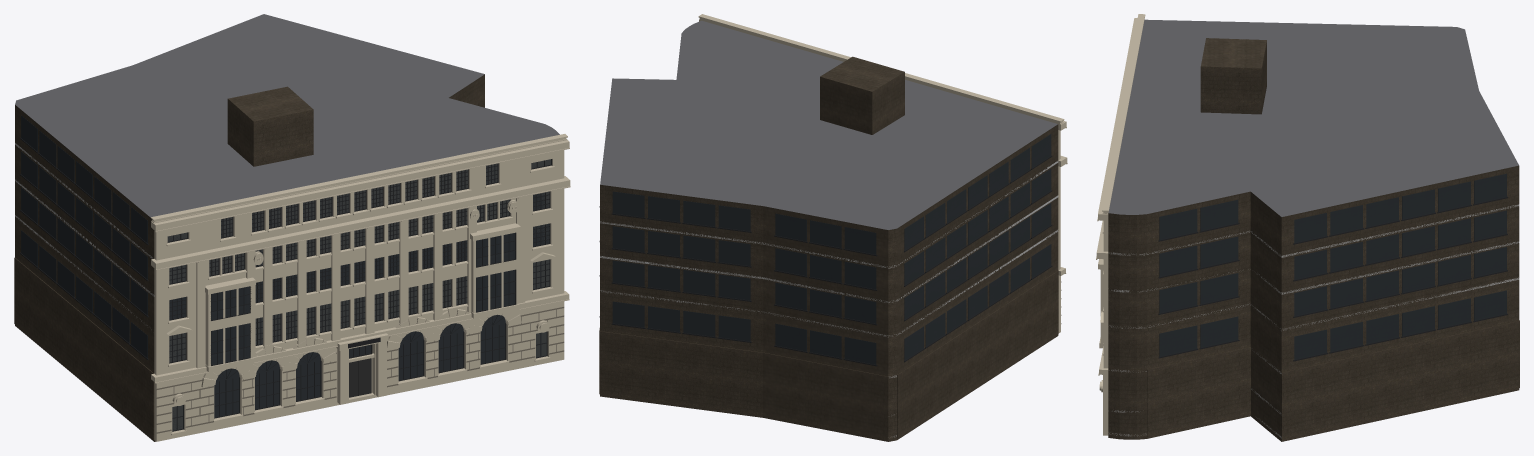
Rendered from barclay_hero4c.glb.
The picture shows the model from 3 angles, left to right: view 1: azimuth 30°, elevation 25°; view 2: azimuth 150°, elevation 25°; view 3: azimuth 270°, elevation 25°; orthographic projection. The views are drawn at different scales.
Parts seen in each view (by area): view 1: HERO_body, HERO_RB_cartouche, HERO_cornice, Window_02_glass, HERO_side_block_base, Window_03_glass, Window_01_glass, Window_05_glass, Window_04_glass, HERO_cornice_drip_002, HERO_roof_tower, Window_04_sill (+8 smaller); view 2: HERO_body, HERO_side_block_base, Window_02_glass, Window_04_glass, Window_03_glass, Window_05_glass, HERO_roof_tower, HERO_RB_cartouche, Floor_04, Window_02_frame, Window_03_frame, Window_04_frame (+4 smaller); view 3: HERO_body, HERO_side_block_base, Window_03_glass, Window_02_glass, Window_04_glass, Window_05_glass, HERO_roof_tower, HERO_RB_cartouche, HERO_cornice_drip_002, Floor_05, Floor_04, Window_03_frame (+5 smaller).
Part boxes in pixels (<box>): HERO_body: <box>15,14,559,441</box>; HERO_RB_cartouche: <box>151,134,567,375</box>; HERO_cornice: <box>151,291,569,441</box>; Window_02_glass: <box>21,230,549,364</box>; HERO_side_block_base: <box>14,257,154,439</box>; Window_03_glass: <box>21,187,549,319</box>; Window_01_glass: <box>172,314,546,430</box>; Window_05_glass: <box>21,115,551,243</box>; Window_04_glass: <box>21,151,549,283</box>; HERO_cornice_drip_002: <box>151,138,569,246</box>; HERO_roof_tower: <box>227,86,313,166</box>; Window_04_sill: <box>151,176,570,287</box>; HERO_body: <box>600,20,1058,441</box>; HERO_side_block_base: <box>599,270,1058,439</box>; Window_02_glass: <box>612,244,1051,364</box>; Window_04_glass: <box>612,169,1051,289</box>; Window_03_glass: <box>612,203,1051,323</box>; Window_05_glass: <box>612,134,1051,254</box>; HERO_roof_tower: <box>820,56,904,134</box>; HERO_RB_cartouche: <box>698,14,1064,270</box>; Floor_04: <box>600,195,1058,302</box>; Window_02_frame: <box>599,265,1052,366</box>; Window_03_frame: <box>599,224,1052,325</box>; Window_04_frame: <box>599,190,1052,290</box>; HERO_body: <box>1108,19,1519,441</box>; HERO_side_block_base: <box>1147,320,1519,439</box>; Window_03_glass: <box>1159,247,1506,316</box>; Window_02_glass: <box>1159,290,1506,359</box>; Window_04_glass: <box>1159,210,1506,279</box>; Window_05_glass: <box>1159,173,1506,242</box>; HERO_roof_tower: <box>1200,38,1266,114</box>; HERO_RB_cartouche: <box>1098,14,1145,368</box>; HERO_cornice_drip_002: <box>1097,18,1137,233</box>; Floor_05: <box>1109,204,1519,257</box>; Floor_04: <box>1111,241,1519,294</box>; Window_03_frame: <box>1158,270,1507,317</box>.
Bounding box in the file's own units: 38.64 × 24.43 × 34.67.
12 materials, 2 textured.
